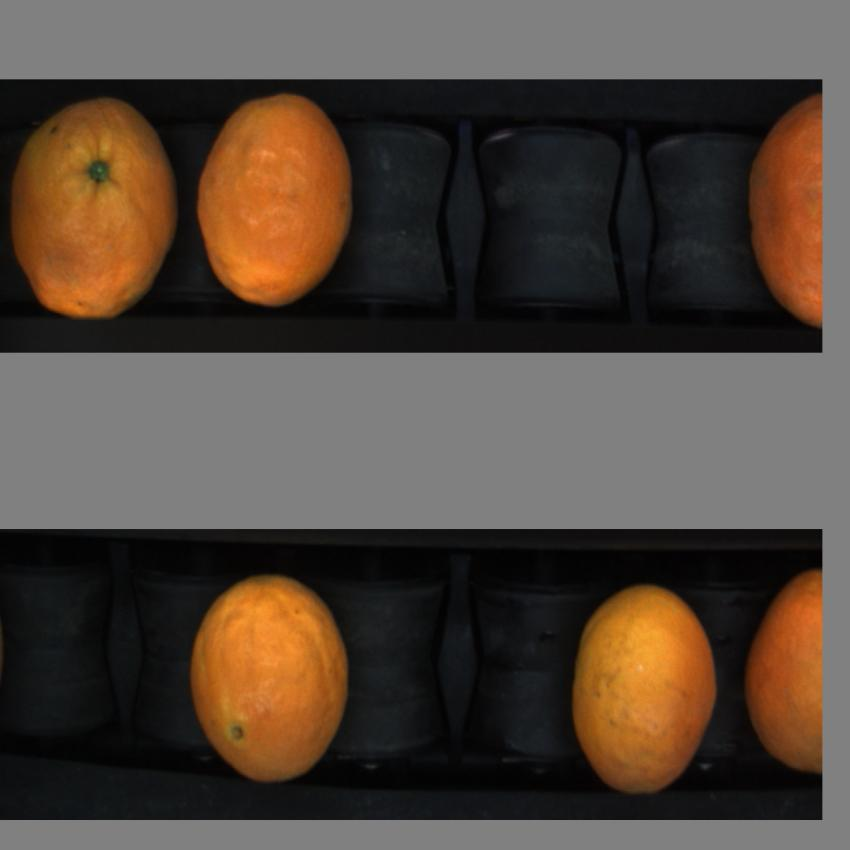Buen estado: (10, 90, 180, 322), (191, 99, 373, 310), (183, 572, 358, 786), (570, 572, 717, 805), (746, 560, 822, 804)
Mal estado: (730, 97, 824, 321)
